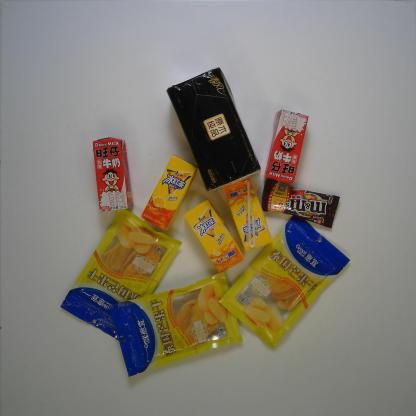Chocolate: (261, 178, 340, 228)
Dried Fruit: (218, 214, 352, 351), (59, 207, 183, 342), (108, 272, 244, 377)
Drink: (182, 198, 245, 274), (140, 154, 198, 231), (223, 177, 273, 252)
Milk: (264, 109, 310, 184), (93, 136, 136, 212)
Tissue: (165, 67, 261, 191)
